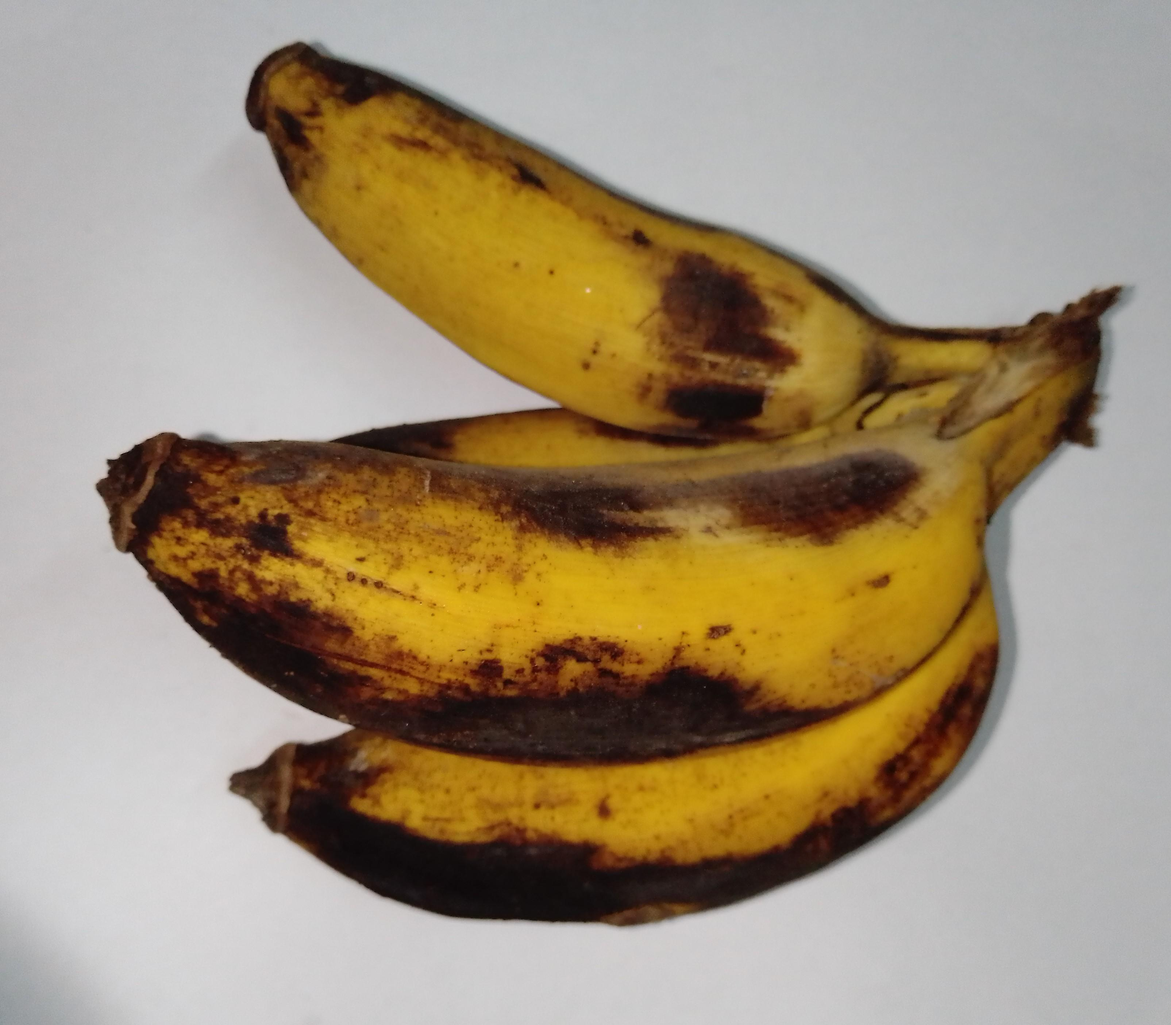Banana Ripe: (147, 22, 935, 416), (99, 435, 1114, 705), (115, 734, 1051, 945)
